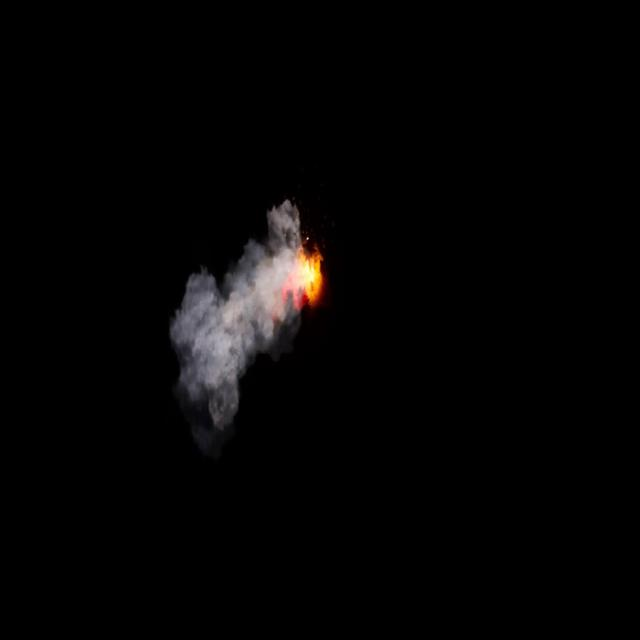fire: (294, 242, 323, 305)
smoke: (169, 203, 304, 435)
